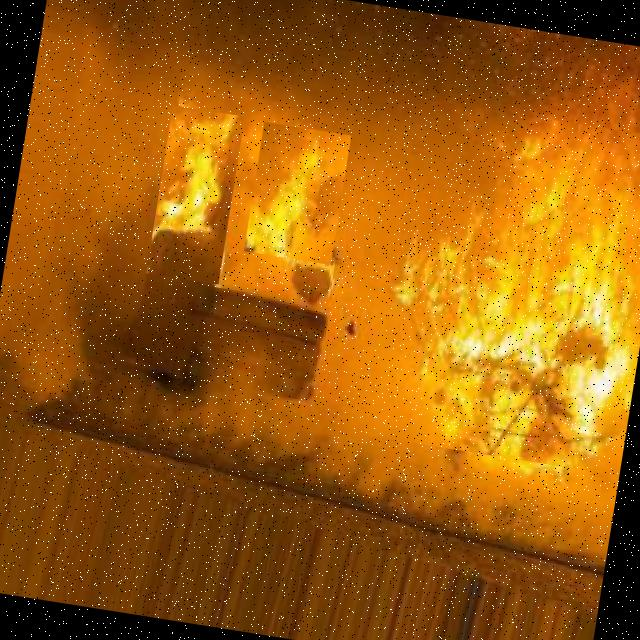fire: (363, 98, 640, 475), (146, 106, 245, 284), (244, 122, 351, 265)
